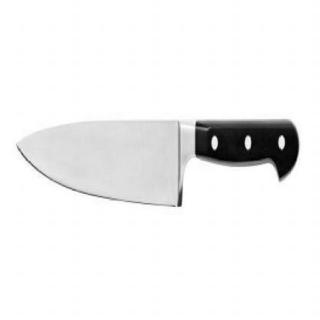knife: (11, 97, 197, 277)
